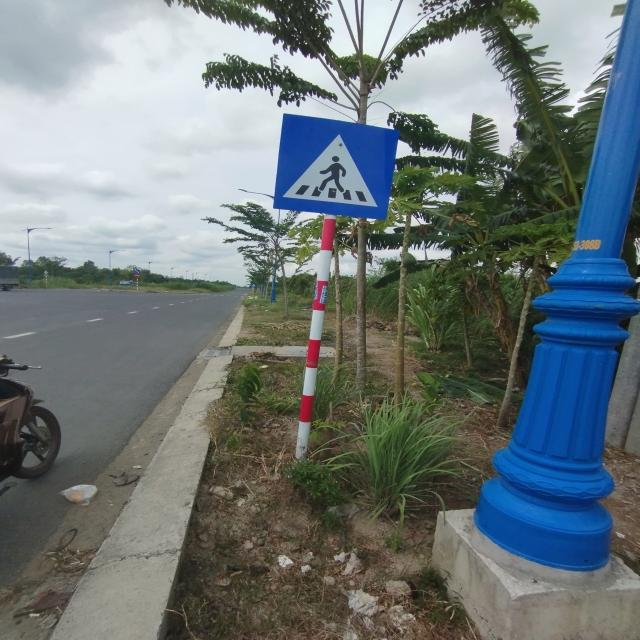Giao_Nhau_Duong_Uu_Tien: (273, 114, 401, 222)
